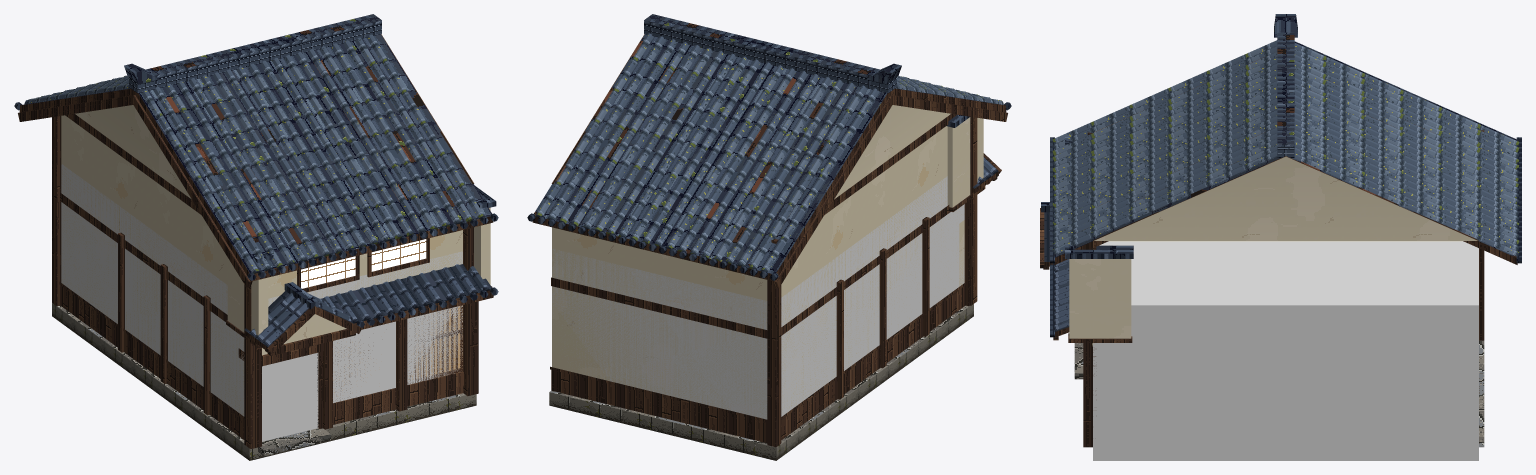
File: JP_Row_House_C_L.glb
3 renders of one model, left to right at view 1: azimuth 30°, elevation 25°; view 2: azimuth 150°, elevation 25°; view 3: azimuth 270°, elevation 25°, orthographic.
Parts seen in each view (by area): view 1: JP_Row_House_C_L, COL_JP_Row_House_C_L; view 2: JP_Row_House_C_L, COL_JP_Row_House_C_L; view 3: JP_Row_House_C_L, COL_JP_Row_House_C_L.
Boxes of the visible parts, bbox=[...] form: JP_Row_House_C_L: bbox=[14, 14, 498, 460]; COL_JP_Row_House_C_L: bbox=[61, 164, 462, 441]; JP_Row_House_C_L: bbox=[527, 14, 1011, 460]; COL_JP_Row_House_C_L: bbox=[552, 176, 964, 419]; JP_Row_House_C_L: bbox=[1040, 14, 1521, 447]; COL_JP_Row_House_C_L: bbox=[1093, 241, 1478, 460].
Size of the model in its own units: 6.93 by 8.36 by 11.23.
Materials: 14 (14 with a texture image).
